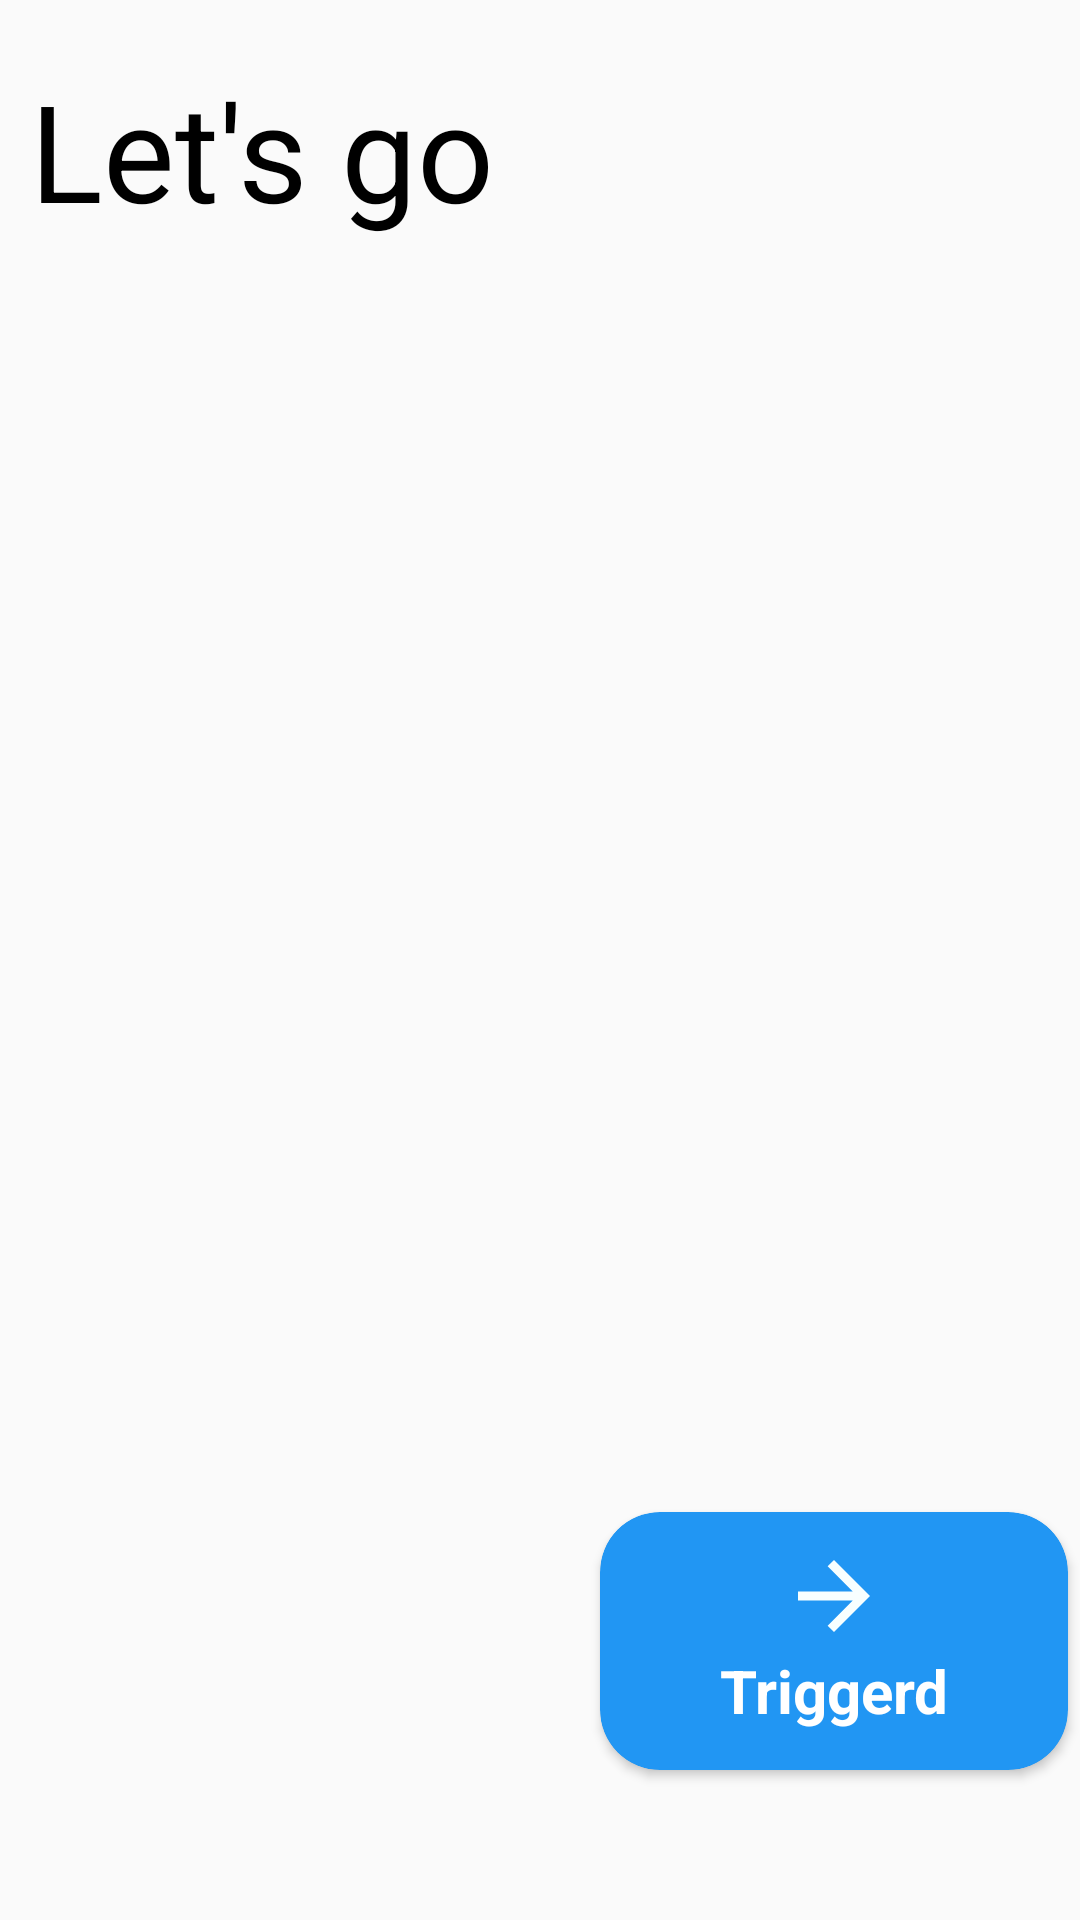

Icon bounding boxes for this 1080x1920 phone screenshot, format detection(x1, y1, x2, y2):
arrow forward: detection(798, 1560, 870, 1632)
